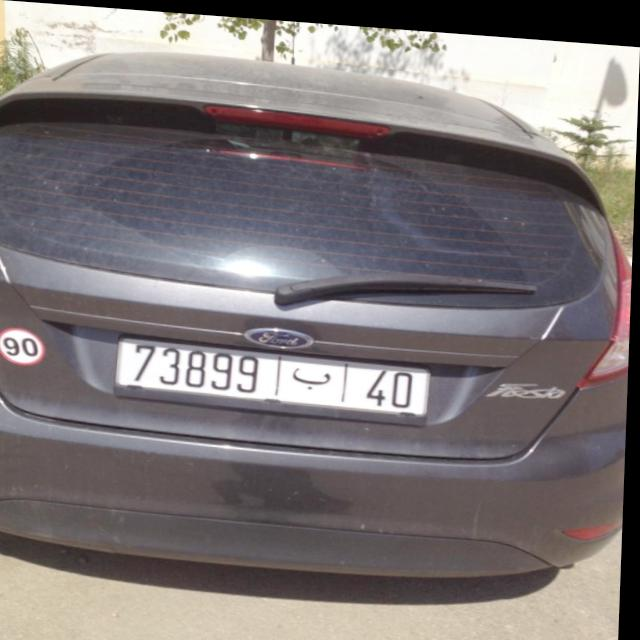License-Plate: (119, 337, 432, 409)
